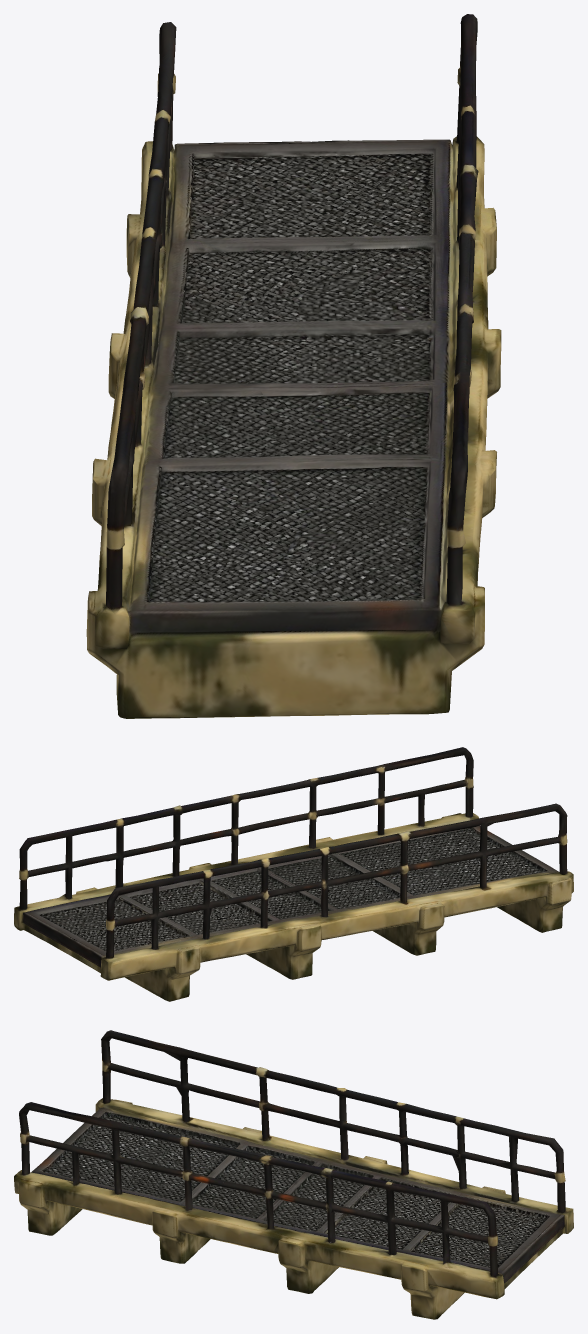
Rendered from catwalk.glb.
The picture shows the model from 3 angles, top to bottom: view 1: azimuth 30°, elevation 25°; view 2: azimuth 150°, elevation 25°; view 3: azimuth 270°, elevation 25°; orthographic projection. The views are drawn at different scales.
Parts seen in each view (by area): view 1: tripo_node_9f6a94ca-0394-49c3-9b6c-fcbf66224a2f; view 2: tripo_node_9f6a94ca-0394-49c3-9b6c-fcbf66224a2f; view 3: tripo_node_9f6a94ca-0394-49c3-9b6c-fcbf66224a2f.
Boxes of the visible parts, <box> form: tripo_node_9f6a94ca-0394-49c3-9b6c-fcbf66224a2f: <box>86,14,501,718</box>; tripo_node_9f6a94ca-0394-49c3-9b6c-fcbf66224a2f: <box>14,747,573,1001</box>; tripo_node_9f6a94ca-0394-49c3-9b6c-fcbf66224a2f: <box>14,1030,573,1319</box>.
Size of the model in its own units: 0.8282 by 0.2911 by 1.
1 material, 1 textured.
